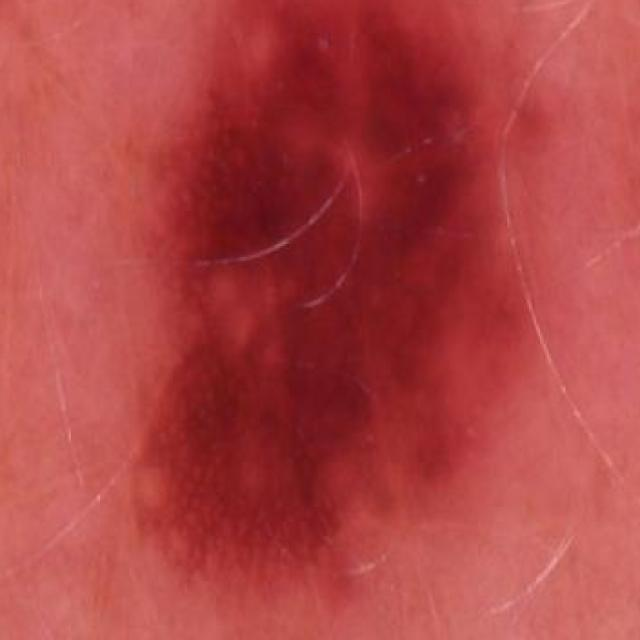NV: (38, 0, 547, 631)
